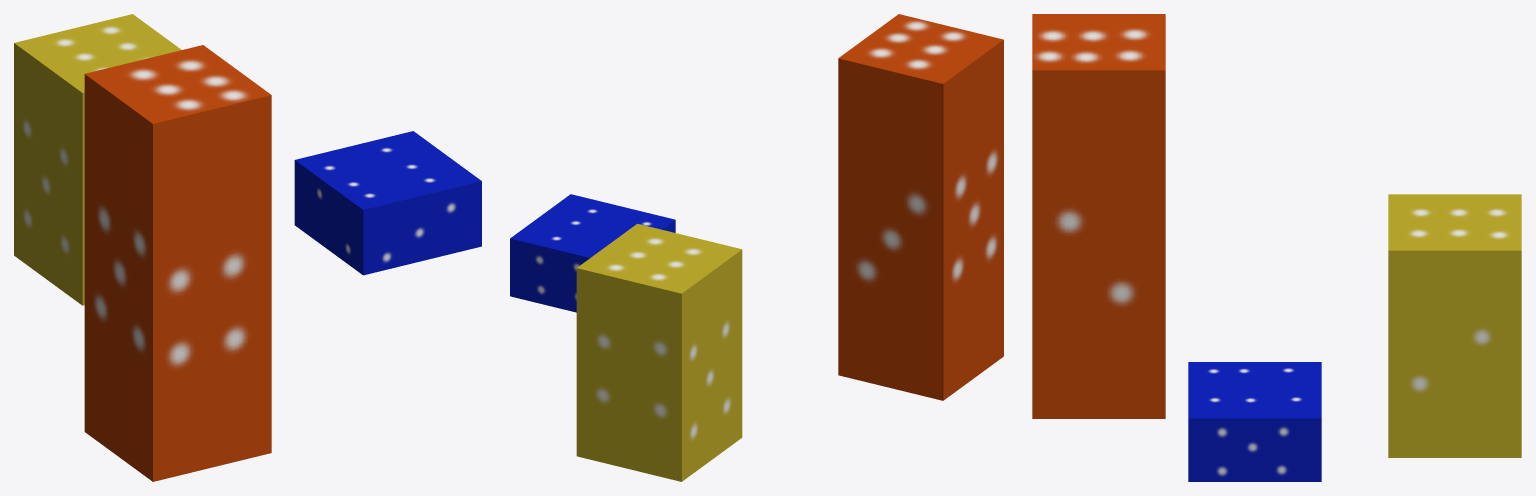
File: dice.obj
3 views of the same model, side by side, from view 1: azimuth 30°, elevation 25°; view 2: azimuth 150°, elevation 25°; view 3: azimuth 270°, elevation 25° (orthographic). The views are drawn at different scales.
Parts seen in each view (by area): view 1: 立方体.002, 立方体, 立方体.001; view 2: 立方体.002, 立方体, 立方体.001; view 3: 立方体.002, 立方体, 立方体.001.
Boxes of the visible parts, left/top/right/bottom form: 立方体.002: left=84, top=45, right=271, bottom=481; 立方体: left=14, top=14, right=181, bottom=305; 立方体.001: left=294, top=131, right=481, bottom=275; 立方体.002: left=838, top=14, right=1003, bottom=400; 立方体: left=576, top=223, right=742, bottom=481; 立方体.001: left=510, top=194, right=675, bottom=312; 立方体.002: left=1032, top=14, right=1165, bottom=418; 立方体: left=1388, top=194, right=1521, bottom=457; 立方体.001: left=1188, top=362, right=1321, bottom=481.
Bounding box in the file's own units: 6.9 × 5.77 × 7.34.
Materials: 3 (3 with a texture image).
